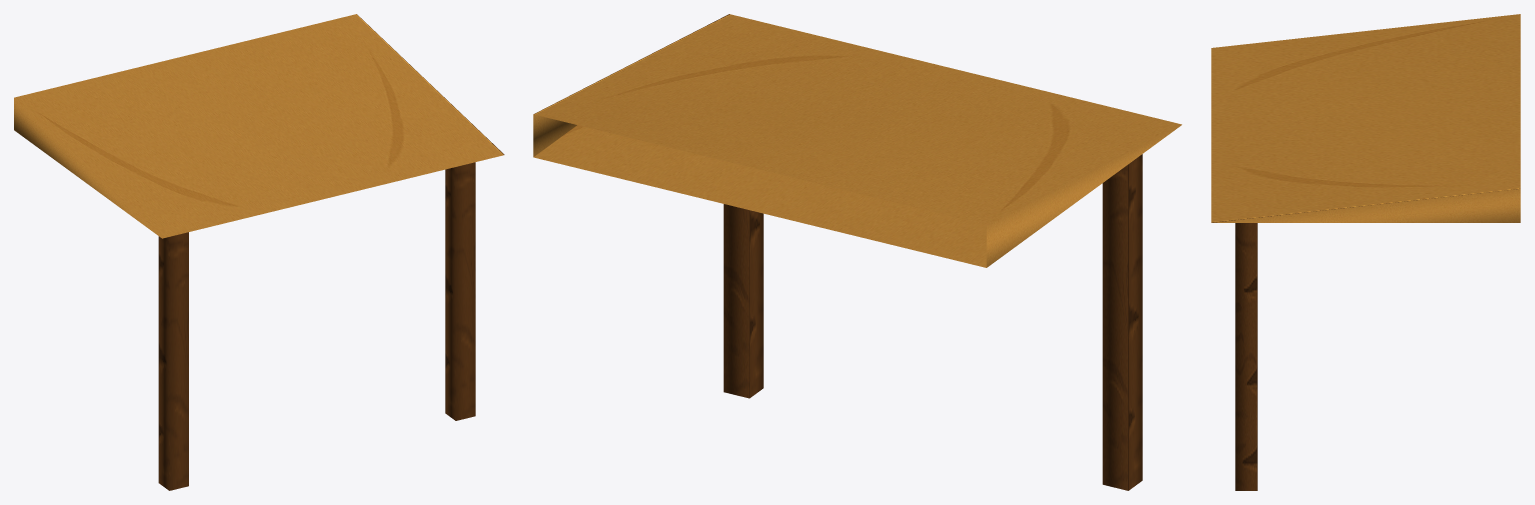
File: naves.fbx
3 views of the same model, side by side, from view 1: azimuth 30°, elevation 25°; view 2: azimuth 150°, elevation 25°; view 3: azimuth 270°, elevation 25° (orthographic). The views are drawn at different scales.
Parts seen in each view (by area): view 1: naves; view 2: naves; view 3: naves.
Part boxes in pixels (x1,y1,x2,y2): naves: [14, 14, 504, 490]; naves: [533, 14, 1181, 490]; naves: [1211, 14, 1520, 490].
Size of the model in its own units: 258 by 214 by 193.
Materials: 1 (1 with a texture image).
